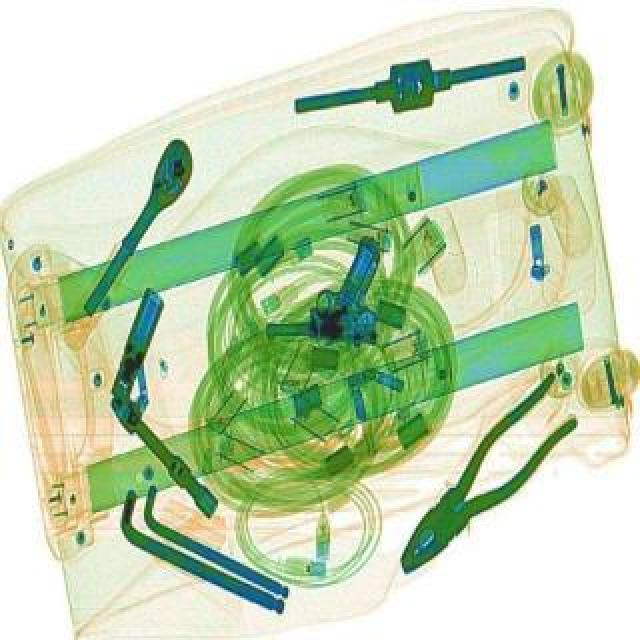gun: (262, 232, 382, 346)
wrench: (374, 364, 596, 588)
